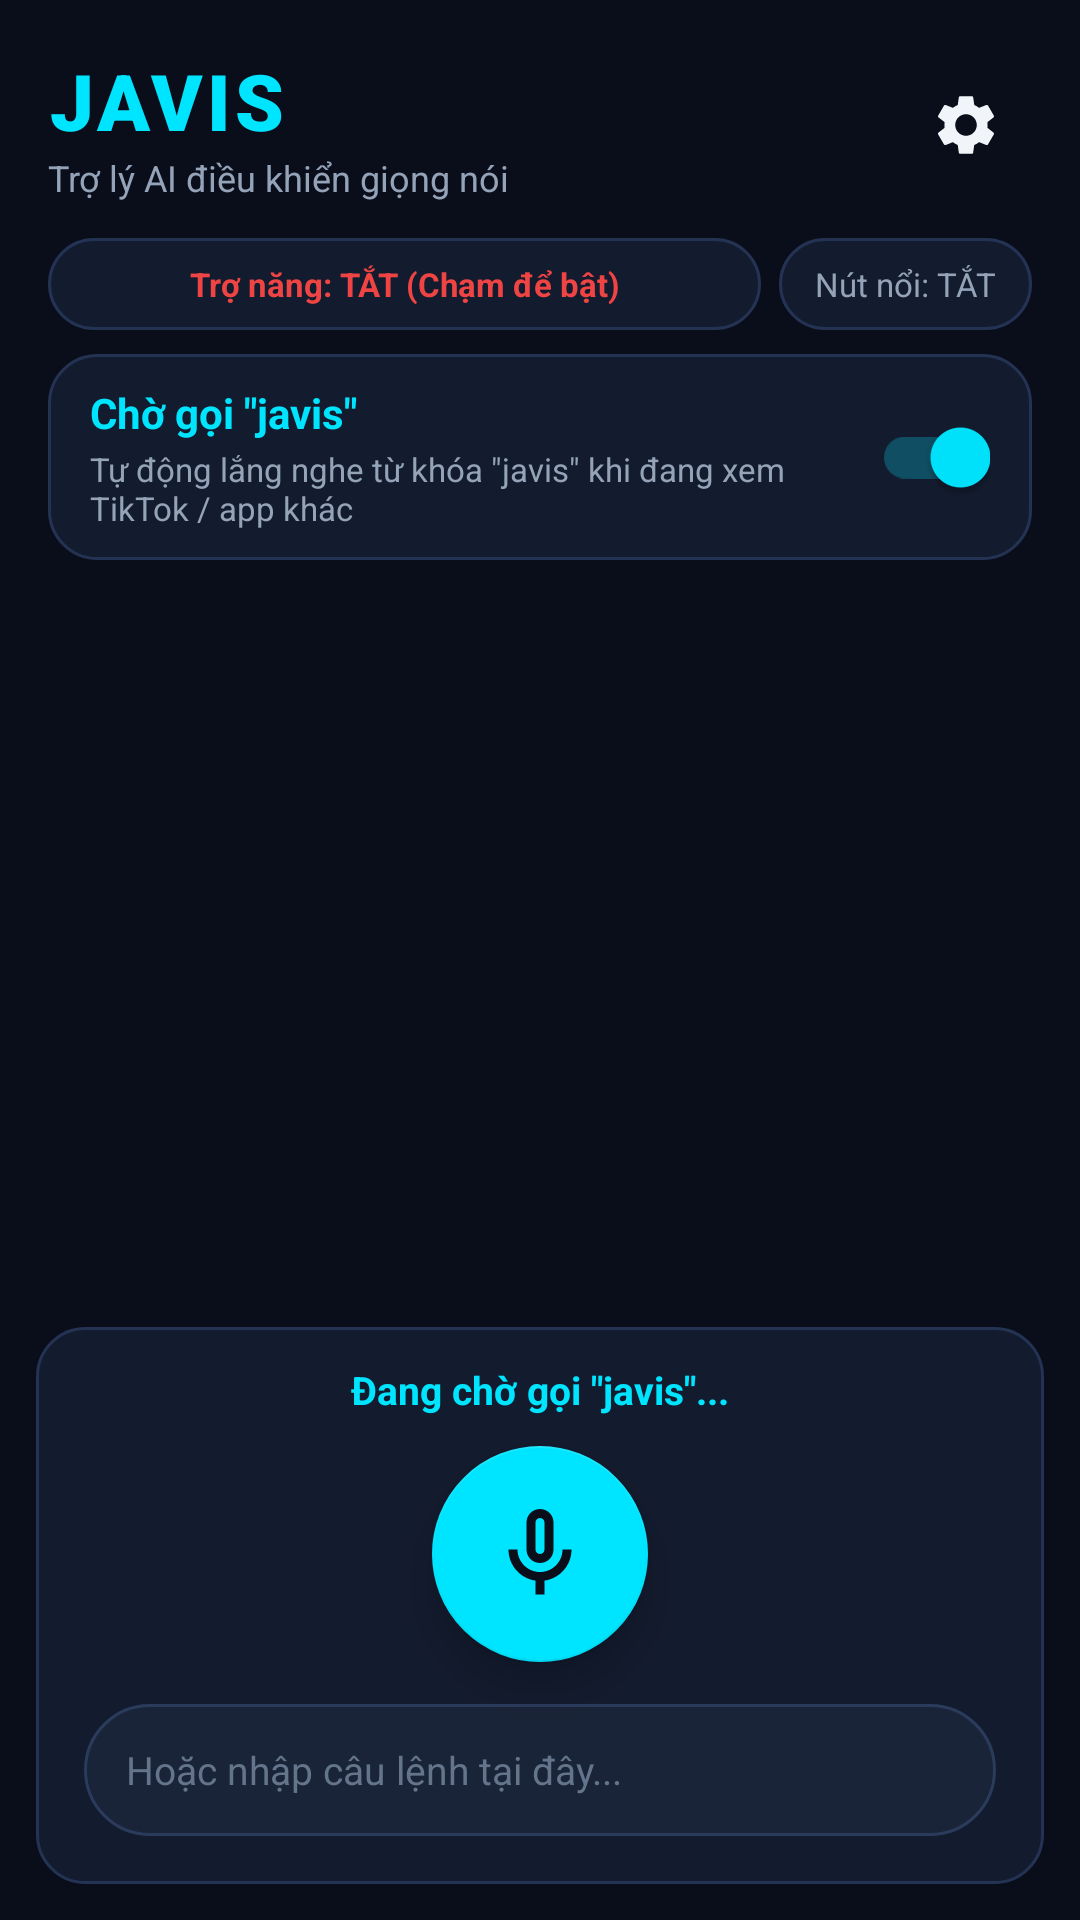

Screen size 1080 × 1920. Icon name, then its box in pixels as detection(x1, y1, x2, y2):
Cài đặt JAVIS: detection(938, 96, 994, 154)
NÓI LỆNH: detection(432, 1446, 648, 1662)
